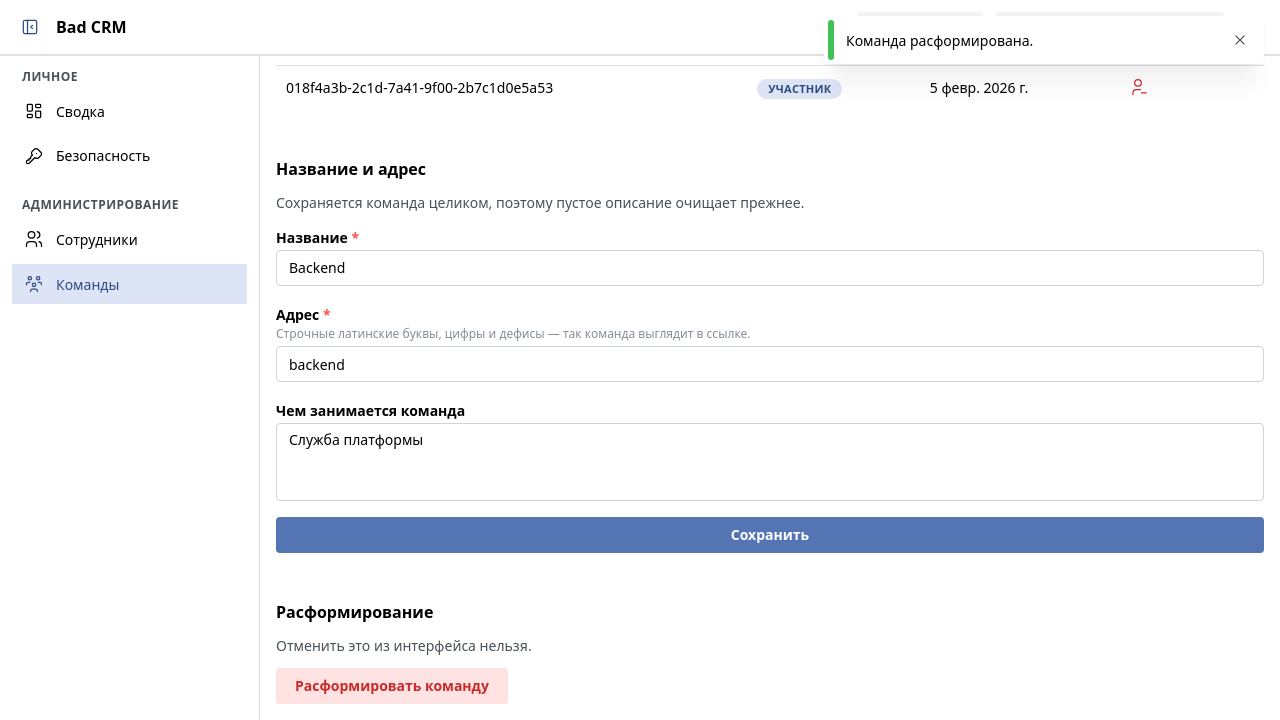
the interpolated labels in ru › name the team the disband dialog is about
(page scrolled)
Click the button "Расформировать команду" at (392, 686), box [276,668,508,704]
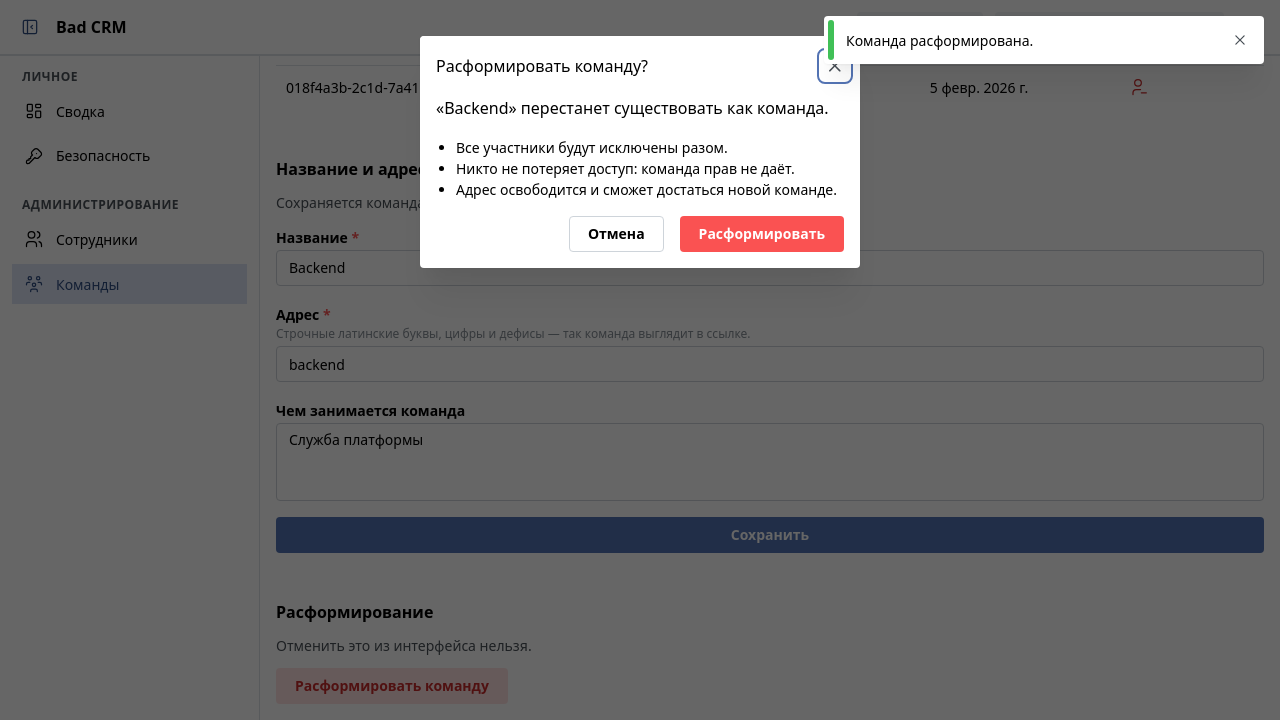
Result: the text "«Backend» перестанет существовать как команда." is shown at [436,96,844,121]
